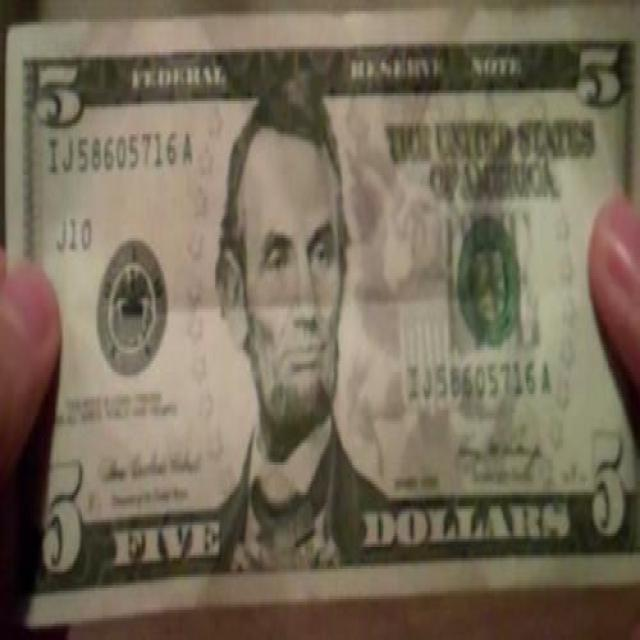5-Front: (5, 6, 640, 618)
